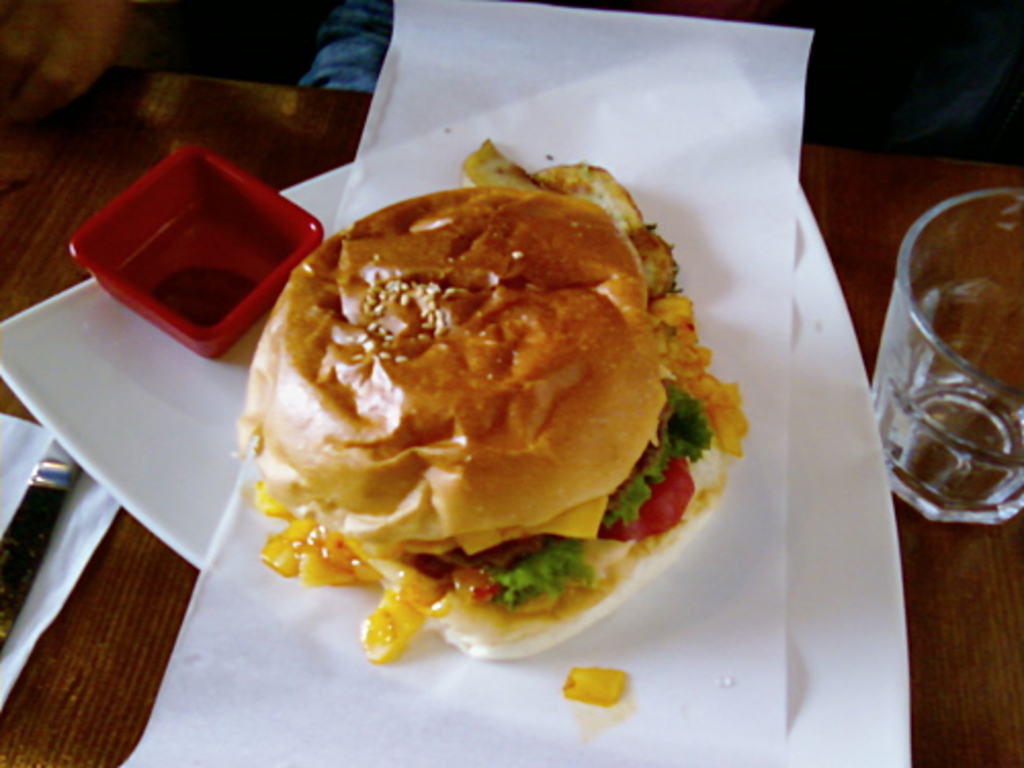Hamburger: (229, 133, 751, 667)
